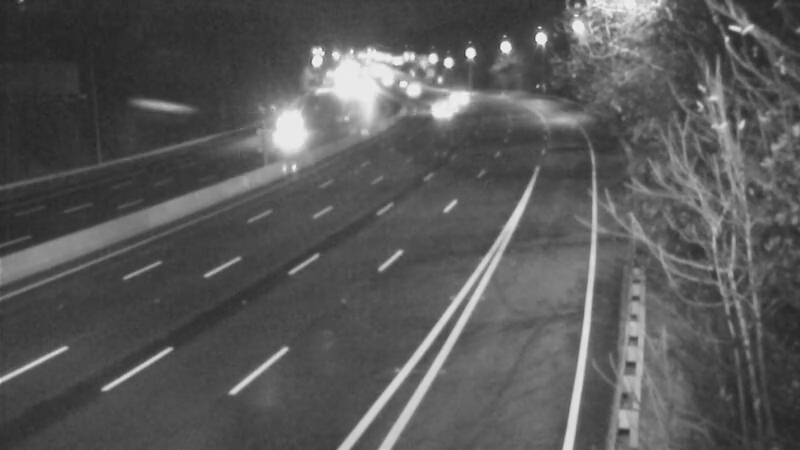vehicle: (384, 59, 434, 109), (434, 75, 484, 125), (413, 85, 463, 135), (262, 111, 312, 161)
